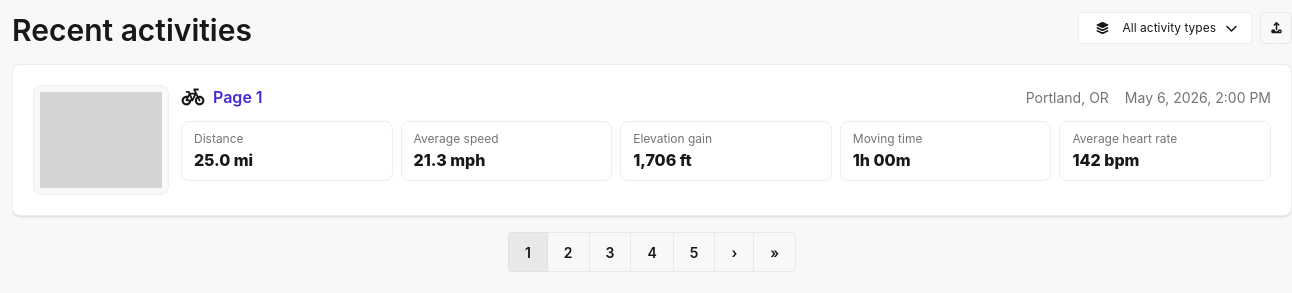
Test: ActivityStream › requests the next page when pagination changes
Click the button named "Next page" at (734, 252), box [714,232,754,272]
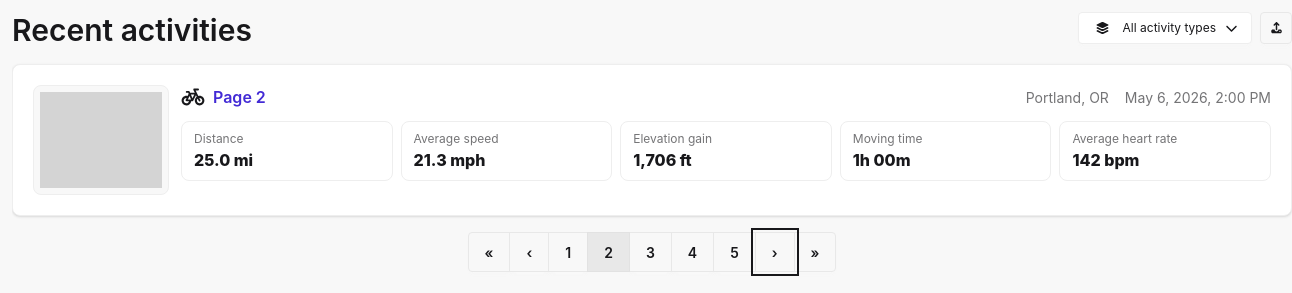
Check: the heading "Page 2" is shown, box [213,87,266,107]
